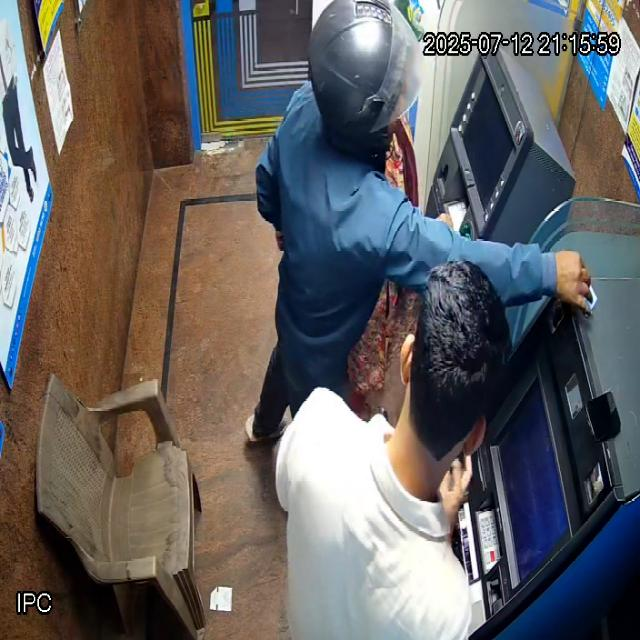helmet: (386, 260, 513, 500), (306, 0, 425, 159)
